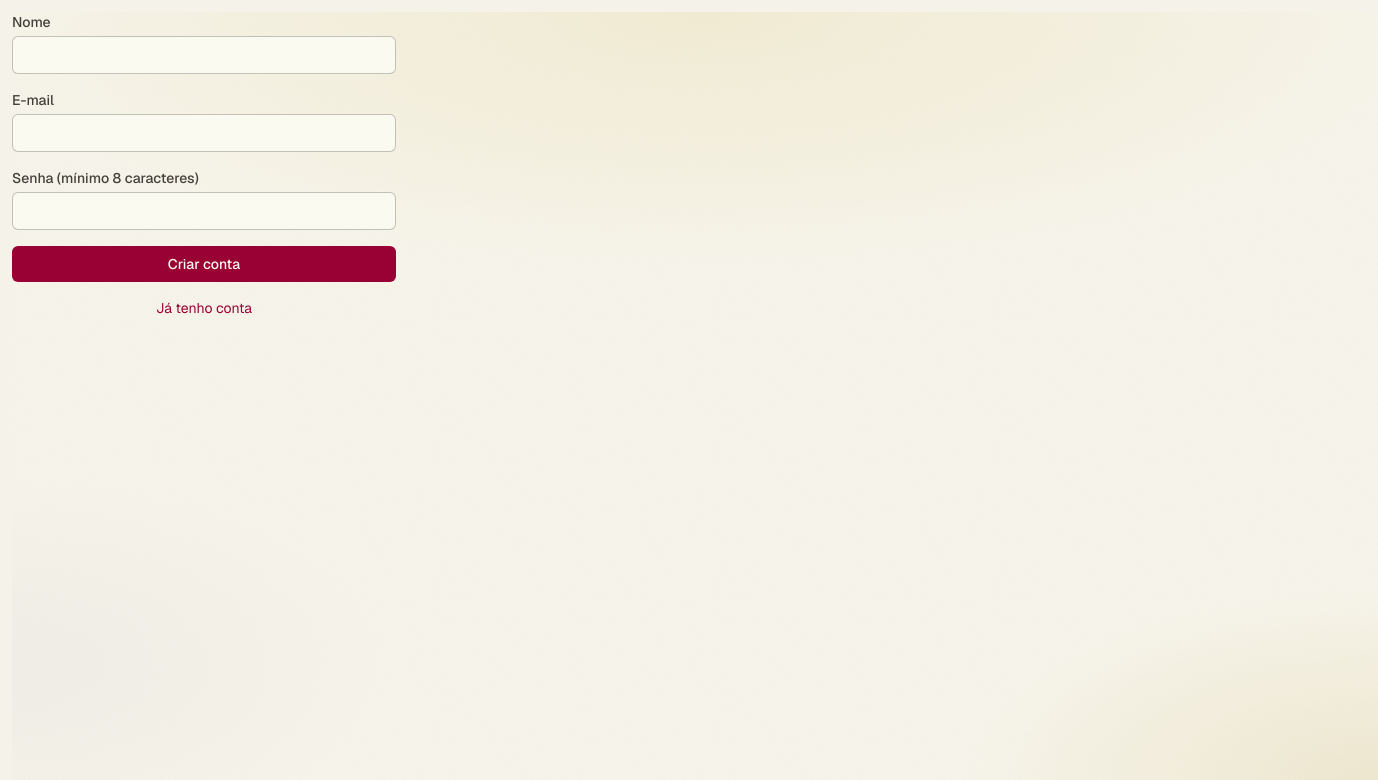
Formulário de registro › quando o registro é recusado › deve exibir o motivo sem trocar de tela
Type "Aria" into the field labelled "Nome" at {"x": 204, "y": 55}, box [12,36,396,74]
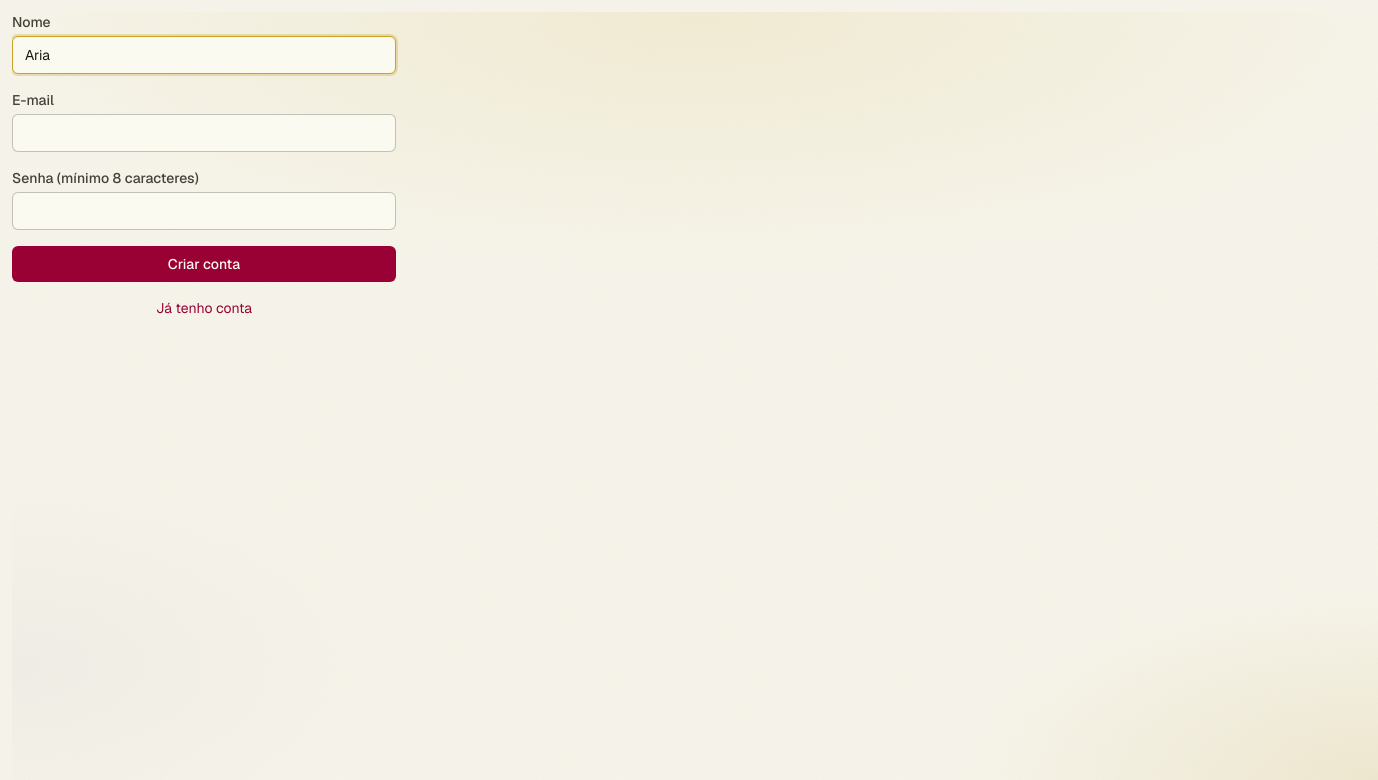
Type "aria@teste.dev" into the field labelled "E-mail" at {"x": 204, "y": 133}, box [12,114,396,152]
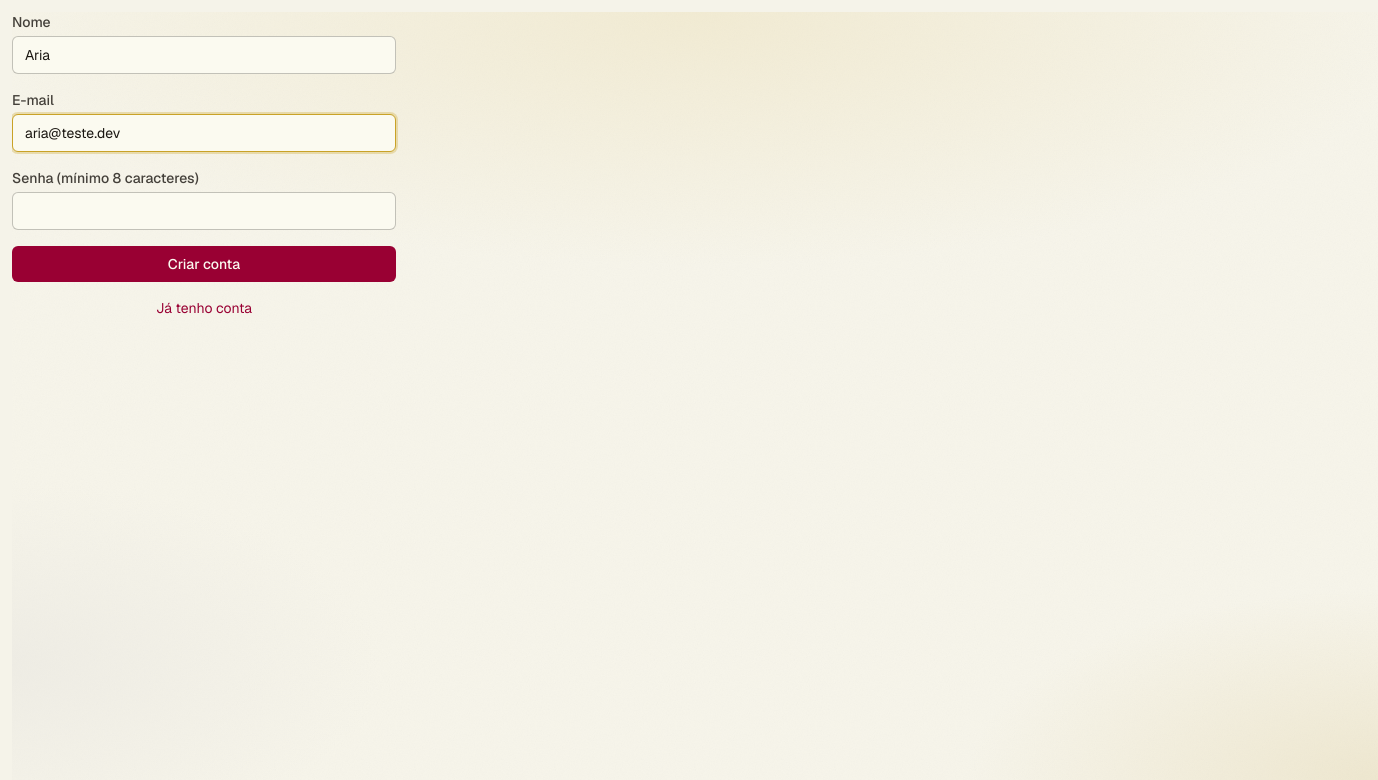
Type "senha-segura" into the password field labelled "Senha (mínimo 8 caracteres)" at {"x": 204, "y": 211}, box [12,192,396,230]
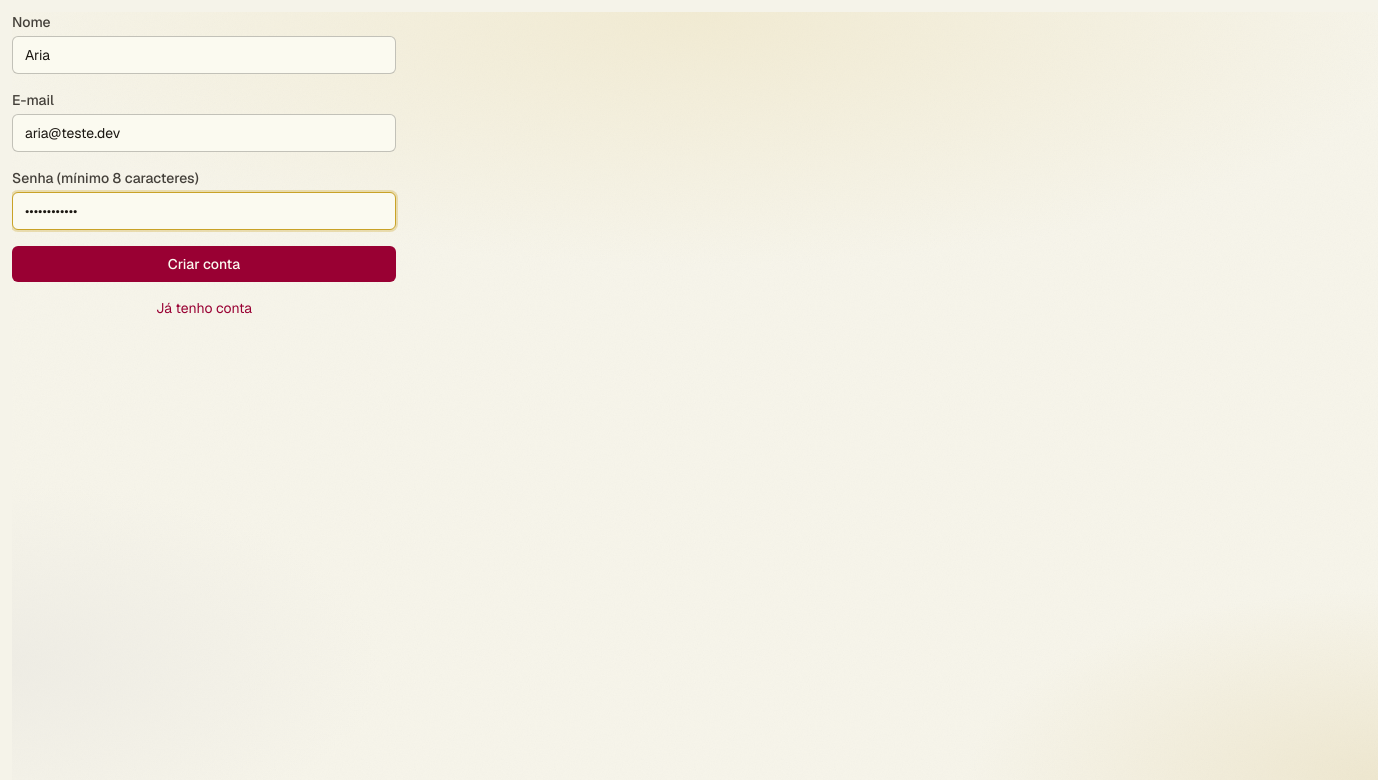
Click the button "Criar conta" at {"x": 204, "y": 264}, box [12,246,396,282]
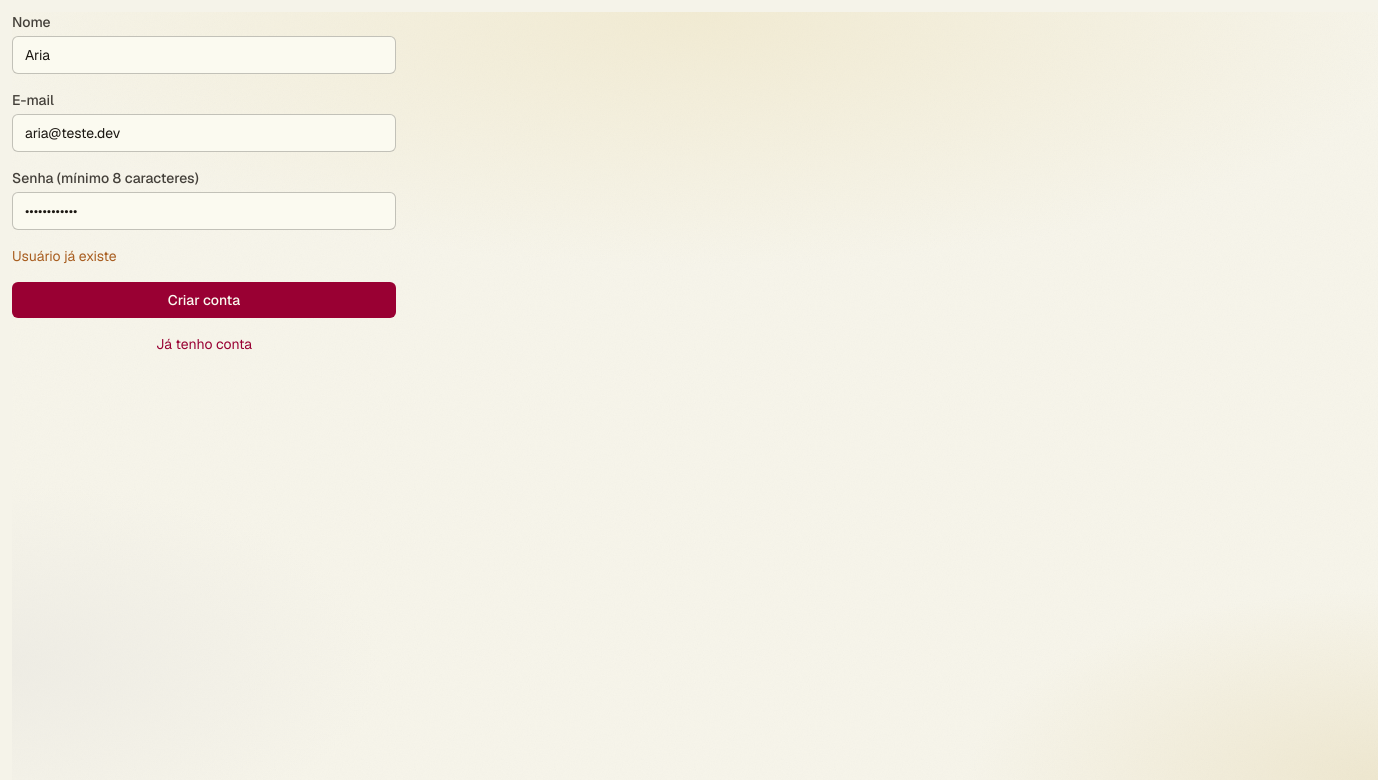
Expected: the button "Criar conta" is shown, [12,282,396,318]
Result: the message reads "Usuário já existe" at [12,247,117,265]
